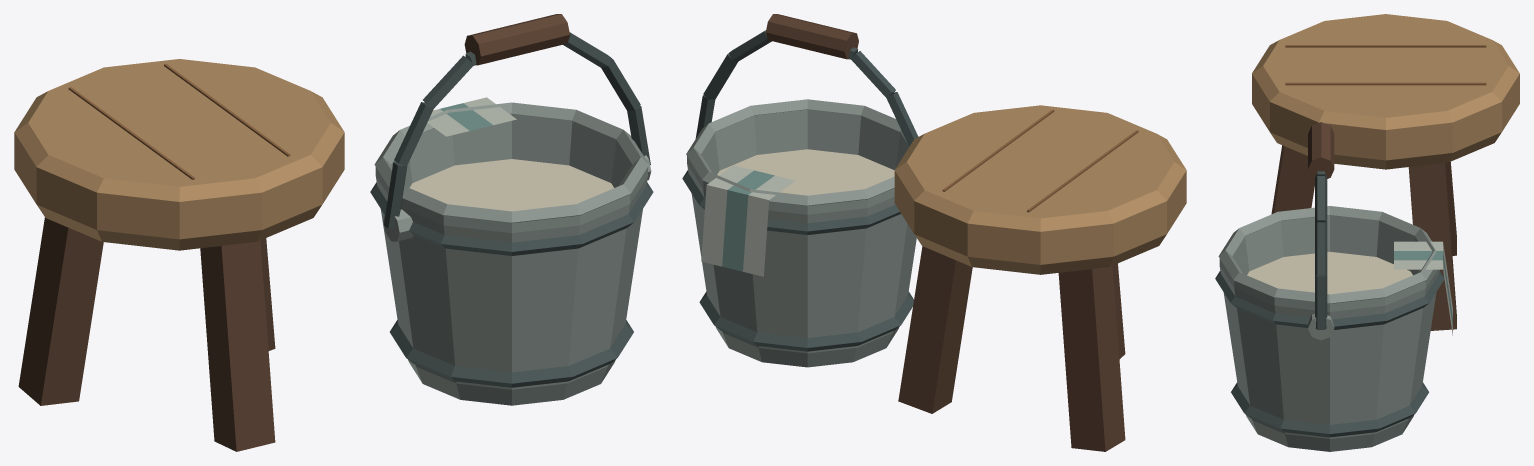
The model's file is milk_station.glb.
3 renders of one model, left to right at view 1: azimuth 30°, elevation 25°; view 2: azimuth 150°, elevation 25°; view 3: azimuth 270°, elevation 25°, orthographic. The views are drawn at different scales.
Visible parts, largest first — view 1: geometry; view 2: geometry; view 3: geometry.
Boxes of the visible parts, bbox=[...] form: geometry: bbox=[14, 14, 653, 451]; geometry: bbox=[682, 14, 1186, 451]; geometry: bbox=[1215, 14, 1519, 451].
Bounding box in the file's own units: 0.9603 × 0.5474 × 0.5459.
